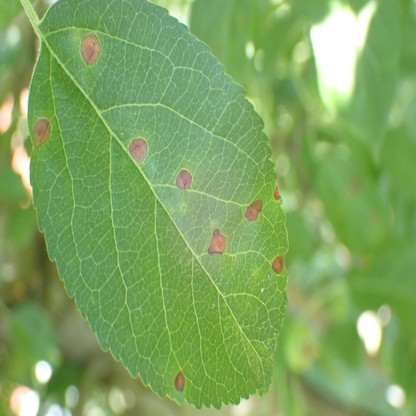frogeye: (80, 33, 101, 67), (33, 116, 52, 148), (129, 137, 148, 164), (208, 228, 226, 253), (244, 201, 264, 222), (176, 168, 192, 189), (174, 369, 186, 393), (271, 255, 284, 274), (273, 185, 280, 201)
